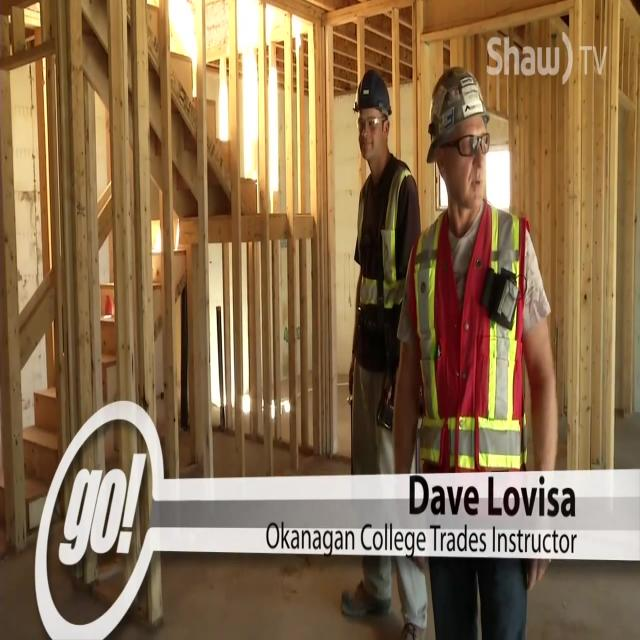Reflective-Jacket: (394, 200, 556, 480), (341, 155, 425, 361)
Safety-Helmet: (421, 54, 499, 166), (346, 59, 398, 130)
